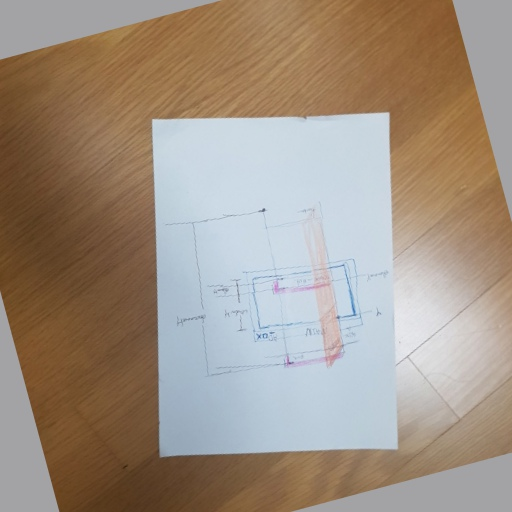Paper_2: (143, 104, 413, 465)
